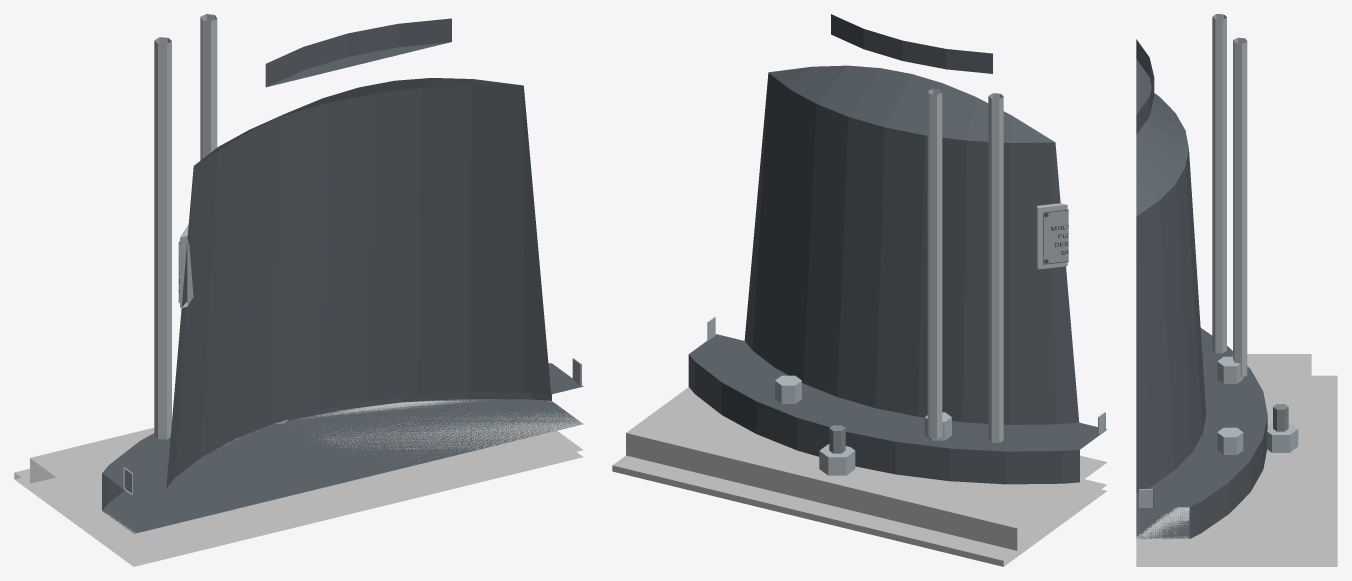
Rendered from cell_2.obj.
3 renders of one model, left to right at view 1: azimuth 30°, elevation 25°; view 2: azimuth 150°, elevation 25°; view 3: azimuth 270°, elevation 25°, orthographic. The views are drawn at different scales.
Bounding box in the file's own units: 1 × 1 × 0.46.
